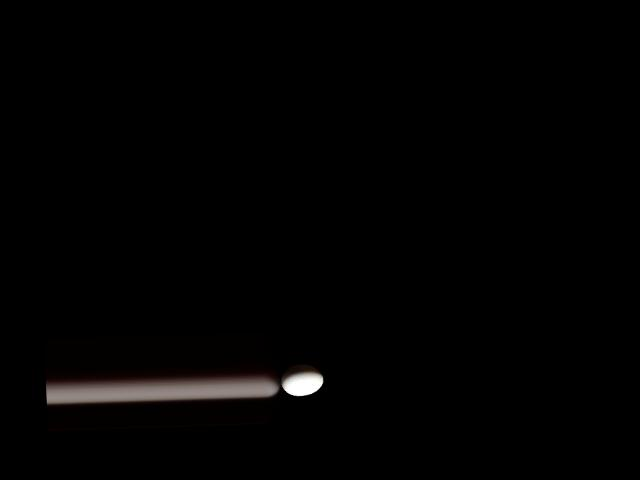egg: (280, 364, 323, 397)
